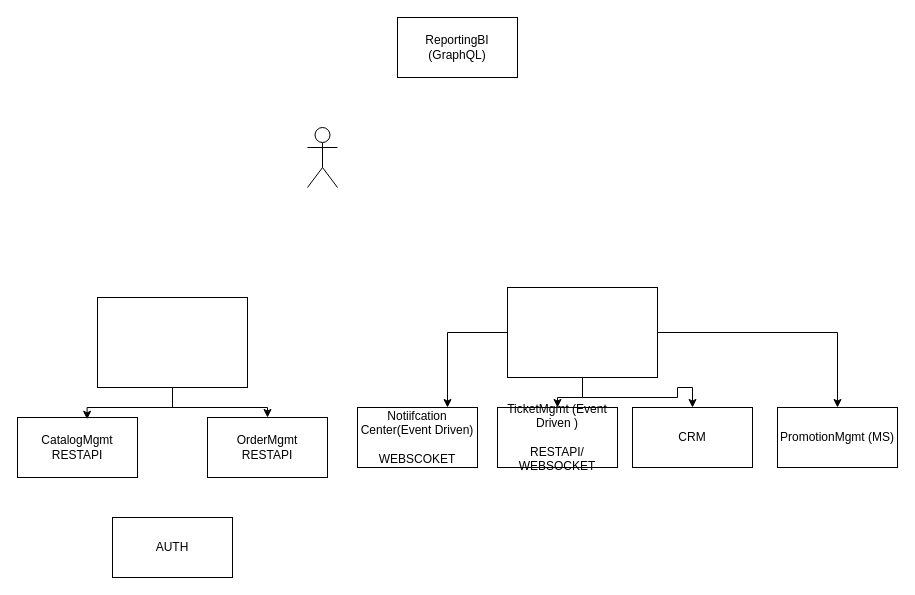
Some shapes in this 915 by 595 pixel diagram are drawn without their labels. Here are the shapes that lost their labels. From the top down, the centre of each, then its label:
At (322,157): "user merchant csr admin".
At (172,342): "CORE".
At (582,332): "MICROSERVICE".
